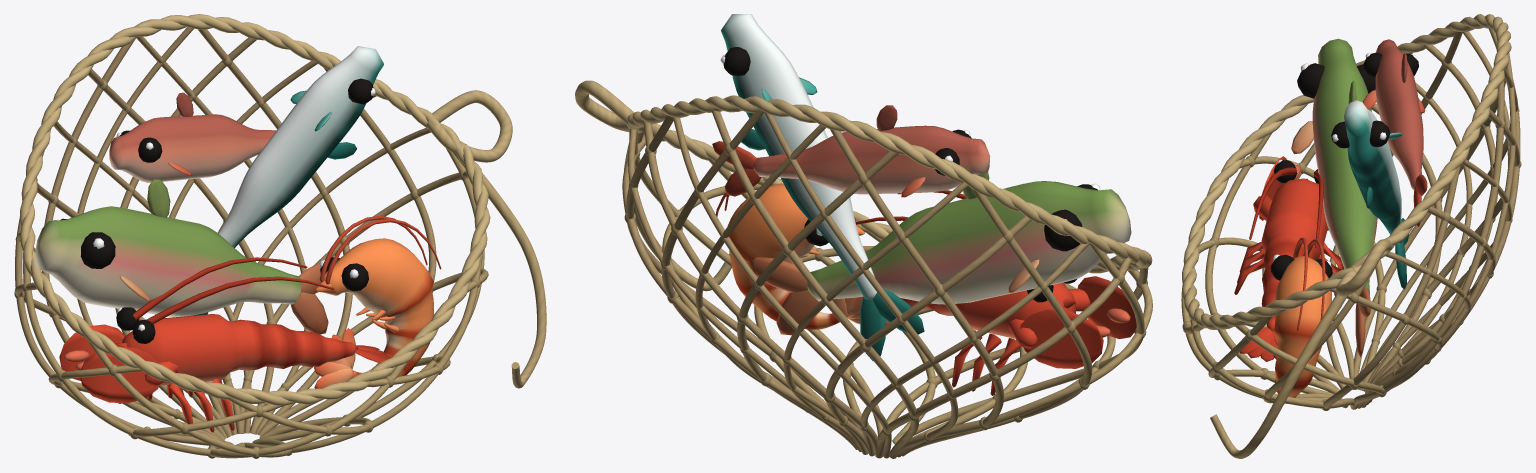
File: Tangled_Net.glb
3 views of the same model, side by side, from view 1: azimuth 30°, elevation 25°; view 2: azimuth 150°, elevation 25°; view 3: azimuth 270°, elevation 25° (orthographic). The views are drawn at different scales.
Visible parts, largest first — view 1: Tangled_Net; view 2: Tangled_Net; view 3: Tangled_Net.
Boxes of the visible parts, x1,y1,x2,y2 form: Tangled_Net: (14,14,546,458); Tangled_Net: (575,14,1152,458); Tangled_Net: (1181,14,1521,458).
Bounding box in the file's own units: 1.18 × 0.8448 × 0.7233.
